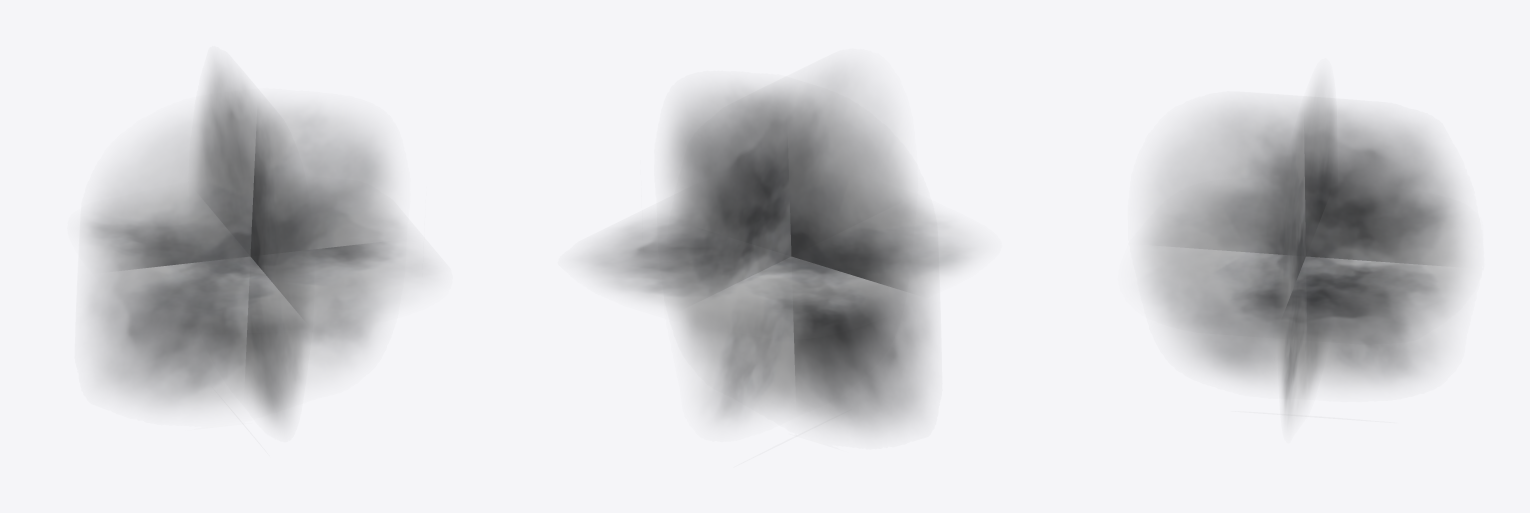
File: smoke.glb
The picture shows the model from 3 angles, left to right: view 1: azimuth 30°, elevation 25°; view 2: azimuth 150°, elevation 25°; view 3: azimuth 270°, elevation 25°; orthographic projection. The views are drawn at different scales.
Visible parts, largest first — view 1: Cube.001; view 2: Cube.001; view 3: Cube.001.
Boxes of the visible parts, bbox=[...] form: Cube.001: bbox=[81, 69, 427, 424]; Cube.001: bbox=[584, 74, 980, 431]; Cube.001: bbox=[1135, 81, 1474, 421].
Bounding box in the file's own units: 1.16 × 1.04 × 1.16.
Materials: 1 (1 with a texture image).
